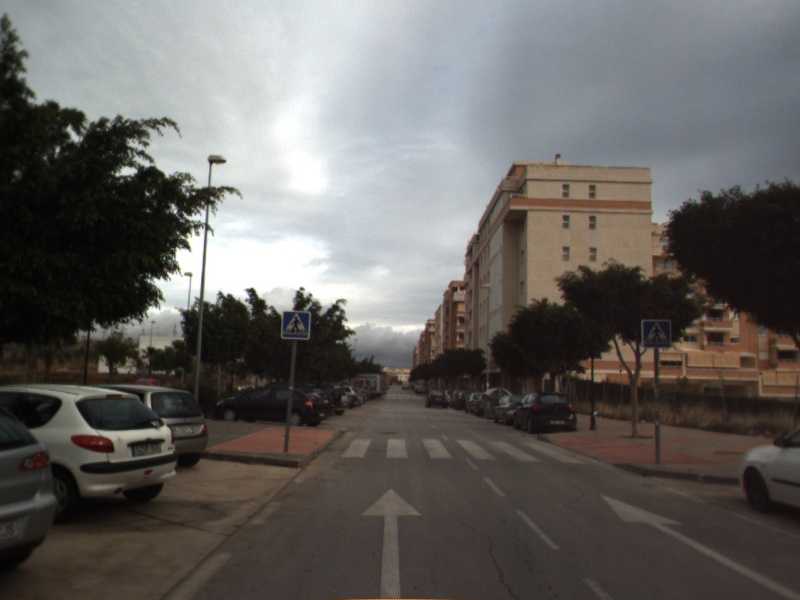STRAIGHT: (600, 494, 800, 600), (359, 486, 424, 600)
